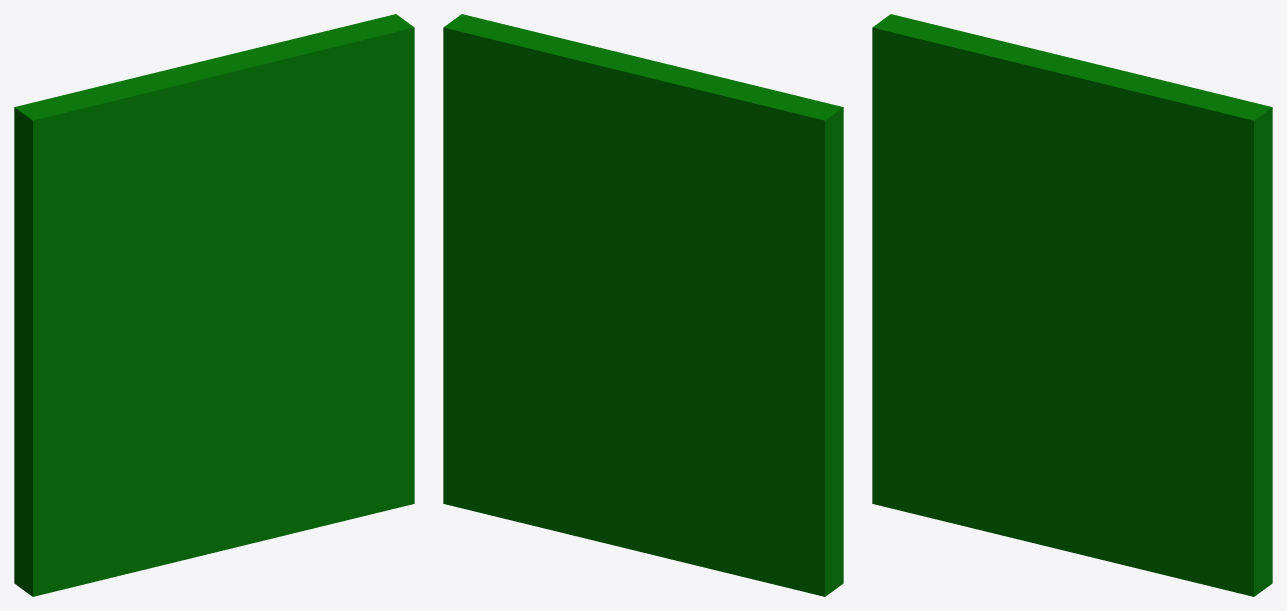
The model's file is door_green.glb.
3 renders of one model, left to right at view 1: azimuth 30°, elevation 25°; view 2: azimuth 150°, elevation 25°; view 3: azimuth 330°, elevation 25°, orthographic.
Visible parts, largest first — view 1: door_green; view 2: door_green; view 3: door_green.
Part boxes in pixels (bbox=[...]): door_green: bbox=[14, 14, 414, 596]; door_green: bbox=[443, 14, 843, 596]; door_green: bbox=[872, 14, 1272, 596].
Bounding box in the file's own units: 2.38 × 2.84 × 0.2.
1 material, 1 textured.
